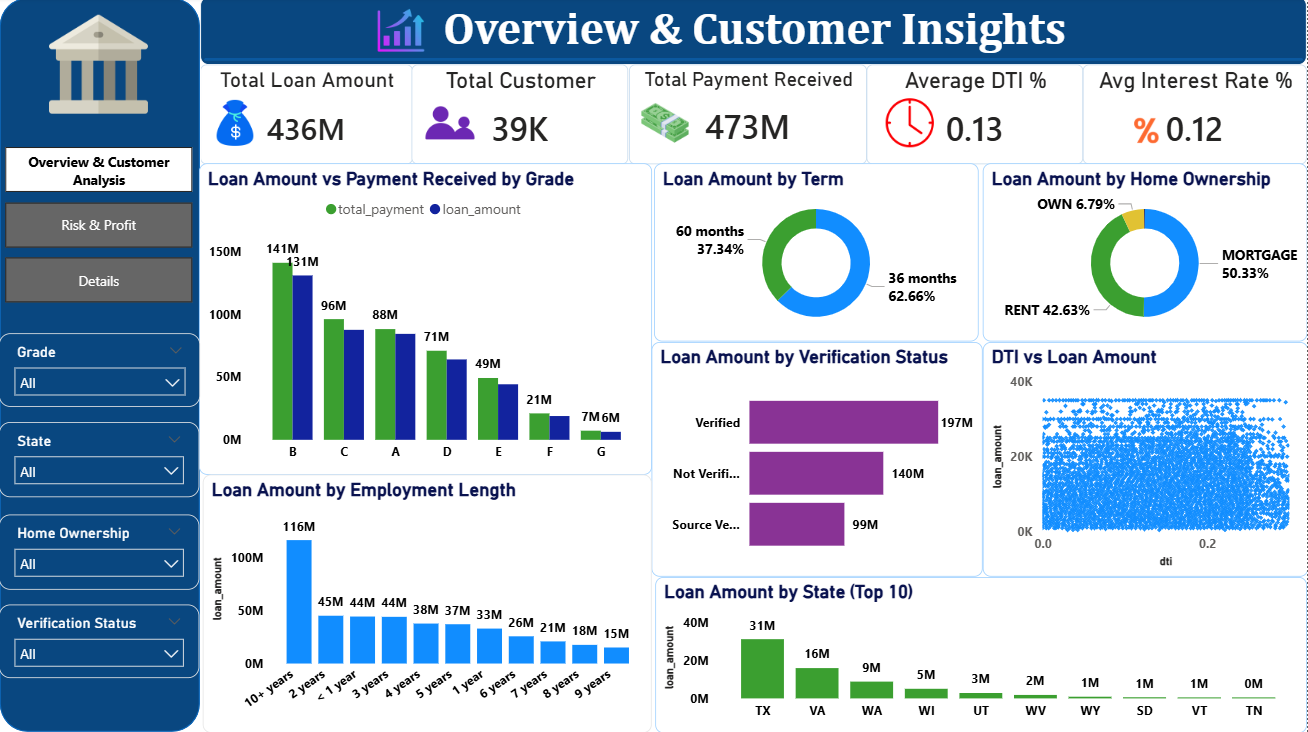

The dashboard page shown, as its layout file describes it:
{"tool":"powerbi","page":{"name":"Overview & Customer Analysis","canvas":[1280,720],"ordinal":0},"visuals":[{"type":"cardVisual","title":"Total Loan Amount","fields":{"Data":["Date Table.Total Loan Amount"]},"box":[197.4,66.3,207.7,97.2],"z":0},{"type":"shape","box":[0,0,197.7,720.1],"z":1000},{"type":"shape","title":"Overview & Customer Insights","box":[197.4,0,1082.6,66.3],"z":2000},{"type":"cardVisual","title":"Total Customer","fields":{"Data":["Date Table.Total Customers"]},"box":[403.6,66.3,212.1,97.2],"z":3000},{"type":"cardVisual","title":"Total Payment Received","fields":{"Data":["Date Table.Total Payment Received"]},"box":[615.7,66.3,232.7,97.2],"z":4000},{"type":"cardVisual","title":"Average DTI %","fields":{"Data":["Date Table.Average DTI"]},"box":[848.4,66.3,212.1,97.2],"z":5000},{"type":"cardVisual","title":"Avg Interest Rate %","fields":{"Data":["Date Table.Average Interest Rate"]},"box":[1060.5,66.3,219.5,97.2],"z":6000},{"type":"clusteredColumnChart","title":"Loan Amount vs Payment Received by Grade","fields":{"Category":["financial_loan.grade"],"Y":["Sum(financial_loan.total_payment)","Sum(financial_loan.loan_amount)"]},"box":[196.3,163.1,443,304.5],"z":7000},{"type":"donutChart","title":"Loan Amount by Home Ownership","fields":{"Category":["financial_loan.home_ownership"],"Y":["Sum(financial_loan.loan_amount)"]},"box":[962.5,163.1,317.5,174.6],"z":8000},{"type":"donutChart","title":"Loan Amount by Term","fields":{"Y":["Sum(financial_loan.loan_amount)"],"Category":["financial_loan.term"]},"box":[640.7,163.1,317.5,174.6],"z":9000},{"type":"barChart","title":"Loan Amount by Verification Status","fields":{"Category":["financial_loan.verification_status"],"Y":["Sum(financial_loan.loan_amount)"]},"box":[638.3,337.5,324.1,229.9],"z":10000},{"type":"scatterChart","title":"DTI vs Loan Amount","fields":{"X":["financial_loan.dti"],"Y":["financial_loan.loan_amount"]},"box":[961.8,337.3,318.2,229.8],"z":11000},{"type":"columnChart","title":"Loan Amount by Employment Length","fields":{"Y":["Sum(financial_loan.loan_amount)"],"Category":["financial_loan.emp_length"]},"box":[199.3,467.1,439,253.1],"z":12000},{"type":"columnChart","title":"Loan Amount by State (Top 10)","fields":{"Y":["Sum(financial_loan.loan_amount)"],"Category":["financial_loan.address_state"]},"box":[642.2,567.1,637.8,153],"z":13000},{"type":"image","box":[344.9,8.7,96.7,47.6],"z":14000},{"type":"image","box":[49.1,8.7,96.7,114],"z":15000},{"type":"pageNavigator","box":[5.8,147.2,183.3,153],"z":16000},{"type":"image","box":[196.3,99.6,70.7,47.6],"z":19000},{"type":"image","box":[616.2,99.6,70.7,47.6],"z":20000},{"type":"image","box":[405.5,99.6,70.7,47.6],"z":21000},{"type":"image","box":[865.8,99.6,50.5,47.6],"z":22000},{"type":"image","box":[1075.1,99.6,95.2,63.5],"z":23000},{"type":"slicer","fields":{"Values":["financial_loan.grade"]},"box":[0,328.9,196.9,72.1],"z":23001},{"type":"slicer","fields":{"Values":["financial_loan.address_state"]},"box":[0,415.8,195.7,73.4],"z":23002},{"type":"slicer","fields":{"Values":["financial_loan.home_ownership"]},"box":[0,506.3,195.7,73.4],"z":23003},{"type":"slicer","fields":{"Values":["financial_loan.verification_status"]},"box":[0,594.3,195.7,72.1],"z":23004}]}

Visuals, with their boxes in screenshot pixels (x1, y1, x2, y2), scaled from the page's 1280x720 canvas onto the 1308x732 screenshot:
"Total Loan Amount" cardVisual: x1=202 y1=67 x2=414 y2=166
shape: x1=0 y1=0 x2=202 y2=731
"Overview & Customer Insights" shape: x1=202 y1=0 x2=1307 y2=67
"Total Customer" cardVisual: x1=412 y1=67 x2=629 y2=166
"Total Payment Received" cardVisual: x1=629 y1=67 x2=867 y2=166
"Average DTI %" cardVisual: x1=867 y1=67 x2=1084 y2=166
"Avg Interest Rate %" cardVisual: x1=1084 y1=67 x2=1307 y2=166
"Loan Amount vs Payment Received by Grade" clusteredColumnChart: x1=201 y1=166 x2=653 y2=475
"Loan Amount by Home Ownership" donutChart: x1=984 y1=166 x2=1307 y2=343
"Loan Amount by Term" donutChart: x1=655 y1=166 x2=979 y2=343
"Loan Amount by Verification Status" barChart: x1=652 y1=343 x2=983 y2=577
"DTI vs Loan Amount" scatterChart: x1=983 y1=343 x2=1307 y2=577
"Loan Amount by Employment Length" columnChart: x1=204 y1=475 x2=652 y2=731
"Loan Amount by State (Top 10)" columnChart: x1=656 y1=577 x2=1307 y2=731
image: x1=352 y1=9 x2=451 y2=57
image: x1=50 y1=9 x2=149 y2=125
pageNavigator: x1=6 y1=150 x2=193 y2=305
image: x1=201 y1=101 x2=273 y2=150
image: x1=630 y1=101 x2=702 y2=150
image: x1=414 y1=101 x2=487 y2=150
image: x1=885 y1=101 x2=936 y2=150
image: x1=1099 y1=101 x2=1196 y2=166
slicer - financial_loan.grade: x1=0 y1=334 x2=201 y2=408
slicer - financial_loan.address_state: x1=0 y1=423 x2=200 y2=497
slicer - financial_loan.home_ownership: x1=0 y1=515 x2=200 y2=589
slicer - financial_loan.verification_status: x1=0 y1=604 x2=200 y2=678
